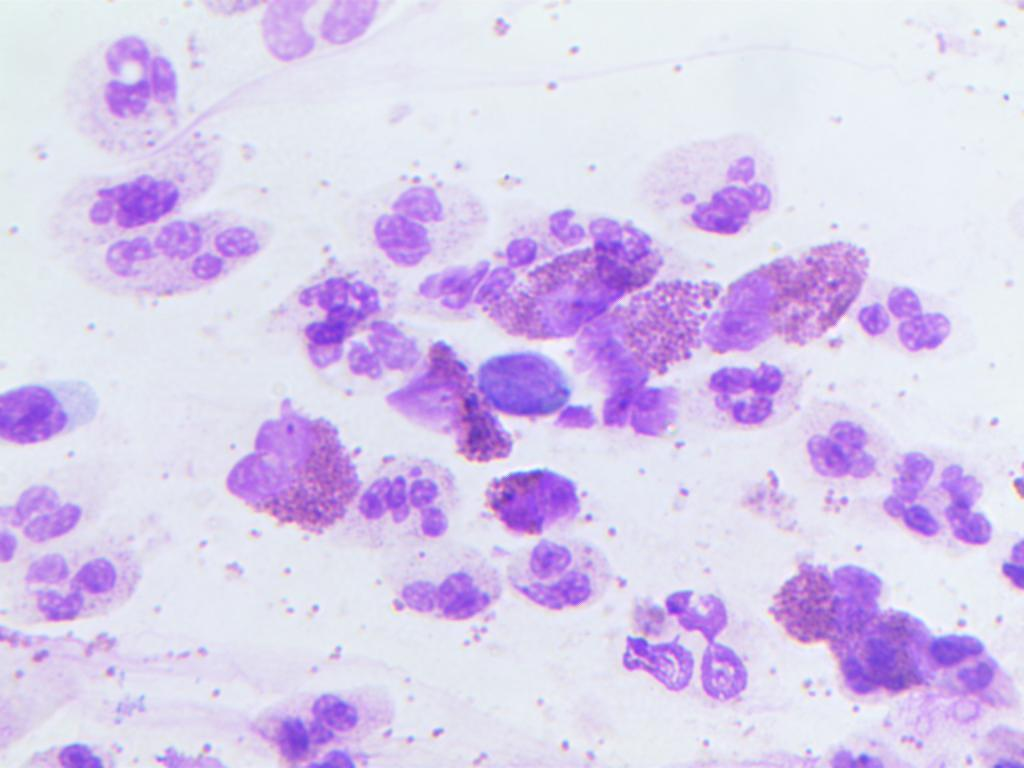eosinophil: (215, 380, 362, 543), (701, 236, 878, 364), (499, 236, 658, 350), (382, 332, 514, 464), (574, 274, 727, 386), (767, 550, 881, 645), (812, 611, 935, 699), (467, 450, 593, 531)
lymphocyte: (2, 367, 113, 449), (472, 345, 576, 424)
neutrophil: (69, 204, 284, 304), (623, 574, 764, 716), (886, 240, 1024, 377), (624, 126, 783, 239), (238, 675, 417, 768), (54, 32, 178, 160), (889, 432, 1008, 562), (368, 164, 493, 276), (66, 144, 215, 237), (1, 534, 156, 620), (282, 266, 400, 377), (847, 268, 970, 368), (799, 384, 898, 504), (354, 453, 469, 551), (684, 349, 805, 440), (923, 611, 1019, 724), (378, 552, 504, 637), (250, 0, 397, 72), (501, 198, 644, 262), (506, 534, 613, 617), (404, 242, 513, 314), (0, 474, 94, 553), (602, 372, 684, 457), (346, 316, 430, 384), (23, 722, 117, 768)
